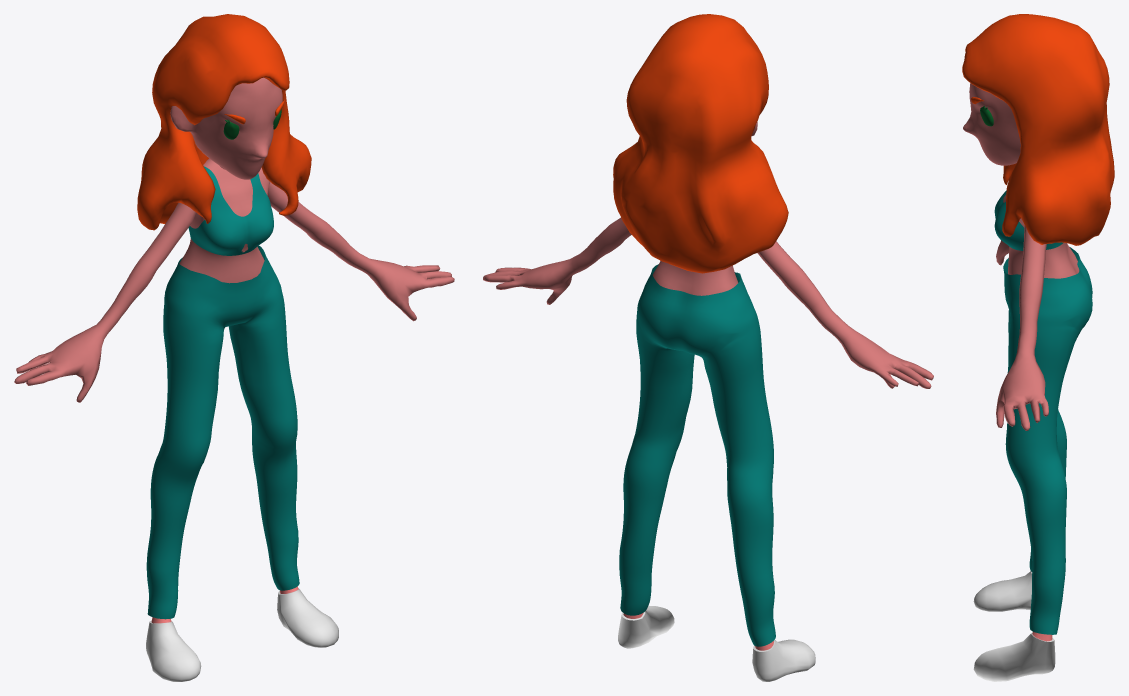
Rendered from PERSONAJE_AIDA_LOW_SPORT.fbx.
The picture shows the model from 3 angles, left to right: view 1: azimuth 30°, elevation 25°; view 2: azimuth 150°, elevation 25°; view 3: azimuth 270°, elevation 25°; orthographic projection. The views are drawn at different scales.
Parts seen in each view (by area): view 1: LEGGINS_AIDA_LOW, PELO_AIDA_LOW, BRAZOS-CUELLO_AIDA_LOW, CABEZA_AIDA_LOW, CALCETINES_AIDA_LOW, TORSO_AIDA_LOW, SUJEDEPORTIVO_AIDA_LOW; view 2: PELO_AIDA_LOW, LEGGINS_AIDA_LOW, BRAZOS-CUELLO_AIDA_LOW, CALCETINES_AIDA_LOW, TORSO_AIDA_LOW; view 3: PELO_AIDA_LOW, LEGGINS_AIDA_LOW, BRAZOS-CUELLO_AIDA_LOW, CALCETINES_AIDA_LOW, CABEZA_AIDA_LOW, TORSO_AIDA_LOW, SUJEDEPORTIVO_AIDA_LOW.
Part boxes in pixels (x1,y1,x2,y2): LEGGINS_AIDA_LOW: (146, 245, 299, 619); PELO_AIDA_LOW: (137, 14, 311, 230); BRAZOS-CUELLO_AIDA_LOW: (14, 166, 454, 402); CABEZA_AIDA_LOW: (170, 77, 282, 179); CALCETINES_AIDA_LOW: (146, 588, 338, 681); TORSO_AIDA_LOW: (179, 158, 270, 283); SUJEDEPORTIVO_AIDA_LOW: (188, 166, 273, 255); PELO_AIDA_LOW: (613, 14, 788, 273); LEGGINS_AIDA_LOW: (619, 264, 775, 646); BRAZOS-CUELLO_AIDA_LOW: (483, 217, 933, 388); CALCETINES_AIDA_LOW: (618, 606, 815, 681); TORSO_AIDA_LOW: (652, 261, 738, 295); PELO_AIDA_LOW: (962, 14, 1114, 245); LEGGINS_AIDA_LOW: (1003, 247, 1092, 634); BRAZOS-CUELLO_AIDA_LOW: (996, 225, 1048, 430); CALCETINES_AIDA_LOW: (973, 571, 1055, 681); CABEZA_AIDA_LOW: (963, 83, 1020, 165); TORSO_AIDA_LOW: (1003, 194, 1079, 278); SUJEDEPORTIVO_AIDA_LOW: (994, 190, 1063, 250).
Bounding box in the file's own units: 1.62 × 2.21 × 0.4892.
